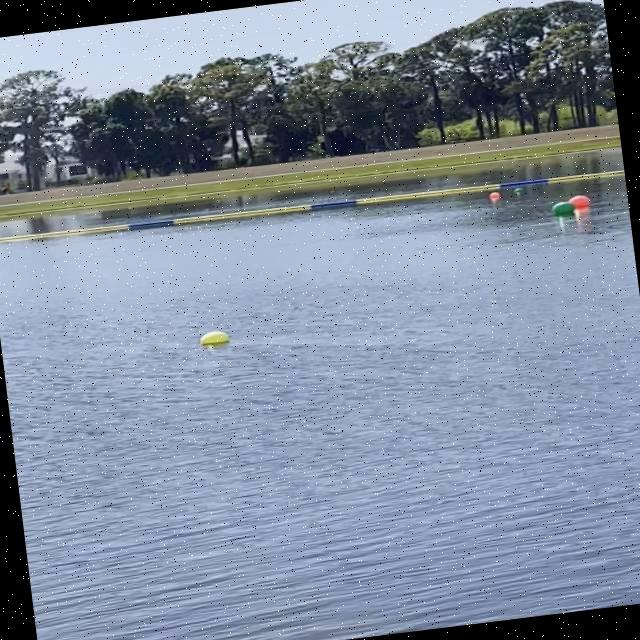buoy: (198, 327, 232, 346), (550, 200, 578, 216), (569, 193, 592, 208)
